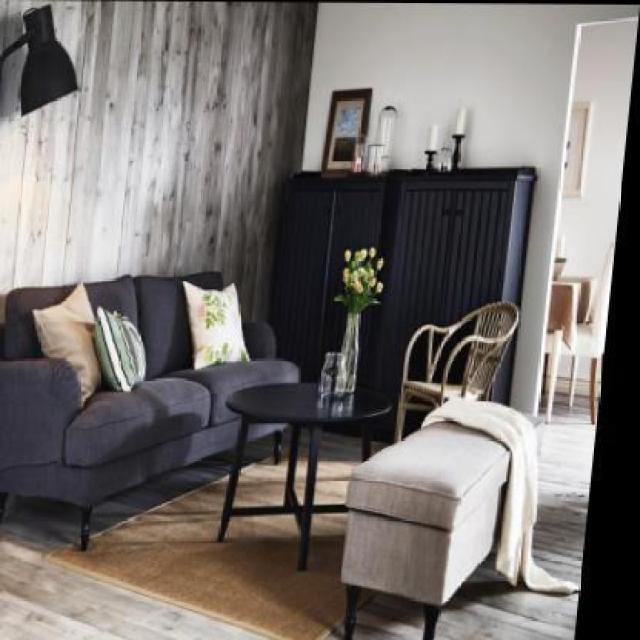tables: (215, 380, 392, 571)
